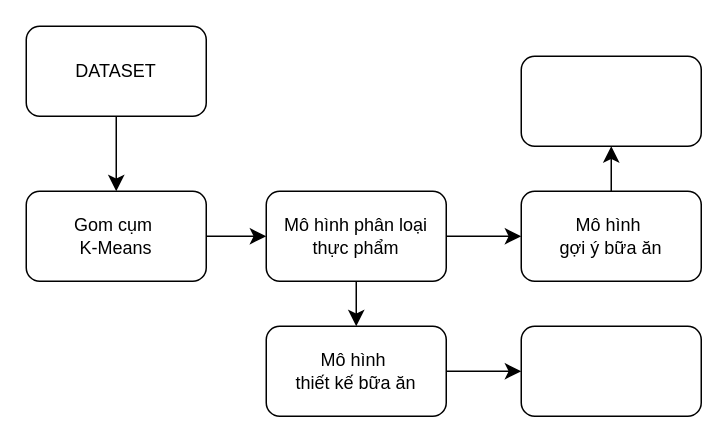
Some shapes in this 728 by 443 pixel diagram are drawn without their labels. Here are the shapes that lost their labels. From the top down, the centre of each, then its label:
(610,100): Output2
(610,370): Output1
